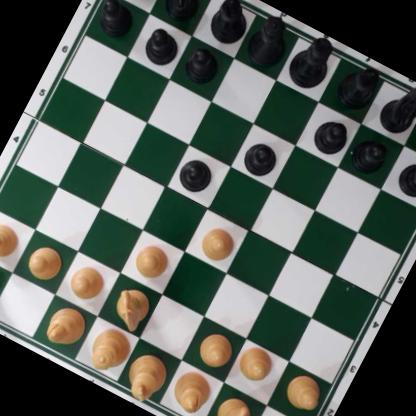black-bishop: (331, 57, 385, 116), (204, 0, 258, 49)
black-king: (283, 27, 343, 96)
black-knight: (375, 76, 416, 140), (157, 0, 213, 27)
black-pawn: (239, 135, 285, 181), (139, 23, 184, 69), (348, 132, 393, 178), (92, 0, 140, 42), (309, 113, 353, 158), (174, 153, 217, 197), (181, 43, 224, 87), (393, 154, 416, 203)
black-queen: (241, 10, 299, 72)
black-rook: (108, 0, 171, 1), (415, 100, 416, 161)
white-bishop: (41, 300, 91, 353), (166, 365, 217, 416)
white-king: (120, 346, 172, 405)
white-knight: (108, 282, 157, 334), (204, 391, 258, 416)
white-pawn: (281, 369, 328, 415), (129, 237, 175, 284), (64, 258, 110, 305), (192, 327, 237, 372), (195, 221, 240, 266), (234, 342, 278, 387), (23, 240, 67, 283), (0, 215, 25, 263)
white-queen: (81, 321, 139, 379)
white-rook: (0, 253, 6, 312)
